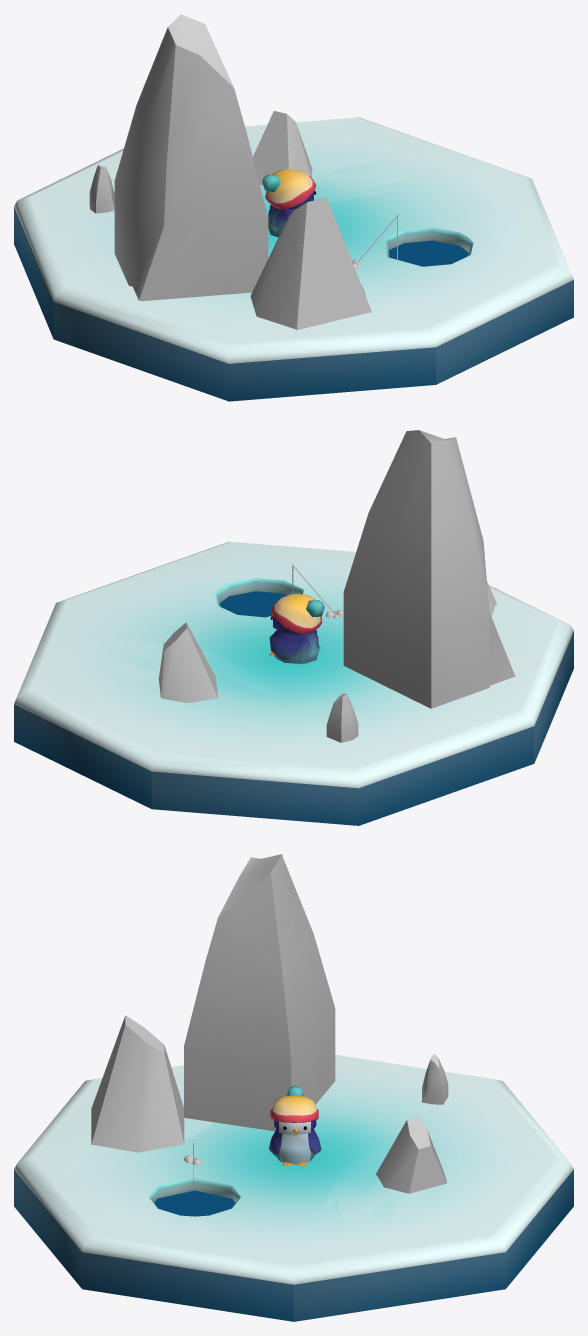
File: lonely_little_penguin.fbx
The picture shows the model from 3 angles, top to bottom: view 1: azimuth 30°, elevation 25°; view 2: azimuth 150°, elevation 25°; view 3: azimuth 270°, elevation 25°; orthographic projection.
Visible parts, largest first — view 1: Object_10, Object_5, Object_9, Object_7; view 2: Object_10, Object_5, Object_9, Object_7; view 3: Object_10, Object_5, Object_7, Object_9.
Boxes of the visible parts, x1,y1,x2,y2 form: Object_10: (14, 117, 573, 401); Object_5: (89, 14, 371, 330); Object_9: (262, 169, 316, 209); Object_7: (268, 192, 313, 237); Object_10: (14, 541, 573, 825); Object_5: (158, 430, 515, 742); Object_9: (271, 594, 324, 634); Object_7: (269, 616, 320, 663); Object_10: (14, 1054, 573, 1321); Object_5: (91, 854, 448, 1193); Object_7: (269, 1119, 321, 1164); Object_9: (270, 1085, 318, 1122).
Bounding box in the file's own units: 105 × 62.77 × 108.
8 materials, 5 textured.
